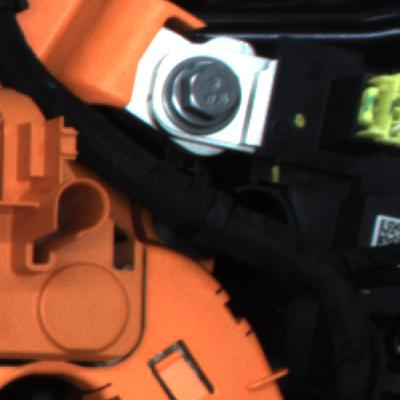nut_b: (171, 63, 267, 141)
